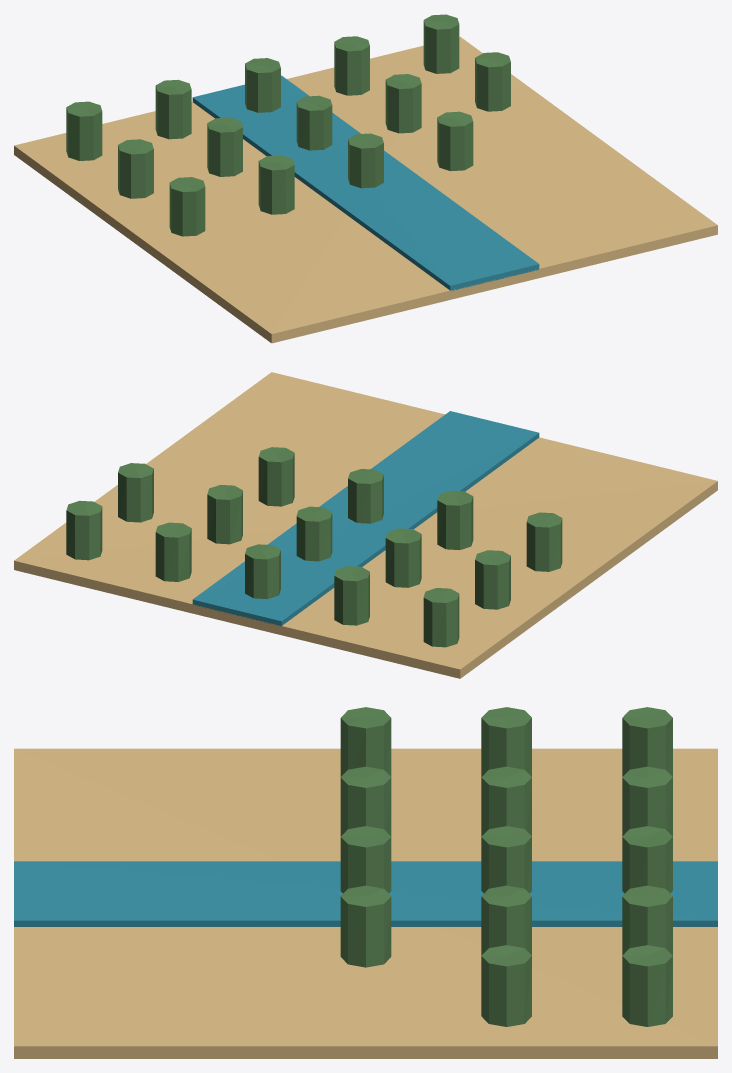
File: riparian-buffer.source.glb
3 renders of one model, top to bottom at view 1: azimuth 30°, elevation 25°; view 2: azimuth 150°, elevation 25°; view 3: azimuth 270°, elevation 25°, orthographic. The views are drawn at different scales.
Parts seen in each view (by area): view 1: riparian-buffer-ground-mesh, riparian-buffer-water-mesh, riparian-buffer-plant-10-mesh, riparian-buffer-plant-4-mesh, riparian-buffer-plant-11-mesh, riparian-buffer-plant-1-mesh, riparian-buffer-plant-0-mesh, riparian-buffer-plant-8-mesh, riparian-buffer-plant-13-mesh, riparian-buffer-plant-9-mesh, riparian-buffer-plant-3-mesh, riparian-buffer-plant-5-mesh (+4 smaller); view 2: riparian-buffer-ground-mesh, riparian-buffer-water-mesh, riparian-buffer-plant-10-mesh, riparian-buffer-plant-6-mesh, riparian-buffer-plant-13-mesh, riparian-buffer-plant-4-mesh, riparian-buffer-plant-3-mesh, riparian-buffer-plant-11-mesh, riparian-buffer-plant-0-mesh, riparian-buffer-plant-5-mesh, riparian-buffer-plant-1-mesh, riparian-buffer-plant-8-mesh (+4 smaller); view 3: riparian-buffer-ground-mesh, riparian-buffer-water-mesh, riparian-buffer-plant-13-mesh, riparian-buffer-plant-4-mesh, riparian-buffer-plant-9-mesh, riparian-buffer-plant-10-mesh, riparian-buffer-plant-11-mesh, riparian-buffer-plant-12-mesh, riparian-buffer-plant-1-mesh, riparian-buffer-plant-3-mesh, riparian-buffer-plant-5-mesh, riparian-buffer-plant-6-mesh (+4 smaller).
Boxes of the visible parts, bbox=[...] form: riparian-buffer-ground-mesh: bbox=[14, 36, 717, 343]; riparian-buffer-water-mesh: bbox=[192, 75, 539, 290]; riparian-buffer-plant-10-mesh: bbox=[169, 177, 205, 236]; riparian-buffer-plant-4-mesh: bbox=[423, 14, 459, 73]; riparian-buffer-plant-11-mesh: bbox=[258, 155, 294, 214]; riparian-buffer-plant-1-mesh: bbox=[155, 79, 191, 139]; riparian-buffer-plant-0-mesh: bbox=[66, 101, 102, 160]; riparian-buffer-plant-8-mesh: bbox=[385, 74, 421, 133]; riparian-buffer-plant-13-mesh: bbox=[437, 111, 473, 171]; riparian-buffer-plant-9-mesh: bbox=[475, 52, 510, 111]; riparian-buffer-plant-3-mesh: bbox=[334, 36, 369, 95]; riparian-buffer-plant-5-mesh: bbox=[118, 139, 153, 198]; riparian-buffer-ground-mesh: bbox=[14, 372, 717, 678]; riparian-buffer-water-mesh: bbox=[192, 411, 539, 626]; riparian-buffer-plant-10-mesh: bbox=[526, 512, 562, 571]; riparian-buffer-plant-6-mesh: bbox=[385, 528, 421, 587]; riparian-buffer-plant-13-mesh: bbox=[258, 447, 294, 506]; riparian-buffer-plant-4-mesh: bbox=[66, 500, 102, 560]; riparian-buffer-plant-3-mesh: bbox=[155, 522, 191, 581]; riparian-buffer-plant-11-mesh: bbox=[437, 490, 473, 549]; riparian-buffer-plant-0-mesh: bbox=[423, 588, 459, 647]; riparian-buffer-plant-5-mesh: bbox=[475, 550, 510, 609]; riparian-buffer-plant-1-mesh: bbox=[334, 566, 369, 625]; riparian-buffer-plant-8-mesh: bbox=[207, 485, 242, 544]; riparian-buffer-ground-mesh: bbox=[14, 748, 717, 1058]; riparian-buffer-water-mesh: bbox=[14, 861, 717, 926]; riparian-buffer-plant-13-mesh: bbox=[340, 885, 391, 967]; riparian-buffer-plant-4-mesh: bbox=[622, 945, 672, 1026]; riparian-buffer-plant-9-mesh: bbox=[481, 945, 531, 1026]; riparian-buffer-plant-10-mesh: bbox=[340, 707, 391, 776]; riparian-buffer-plant-11-mesh: bbox=[340, 766, 391, 836]; riparian-buffer-plant-12-mesh: bbox=[340, 826, 391, 893]; riparian-buffer-plant-1-mesh: bbox=[622, 766, 672, 836]; riparian-buffer-plant-3-mesh: bbox=[622, 885, 672, 955]; riparian-buffer-plant-5-mesh: bbox=[481, 707, 531, 776]; riparian-buffer-plant-6-mesh: bbox=[481, 766, 531, 836].
Size of the model in its own units: 5 by 0.575 by 5.
